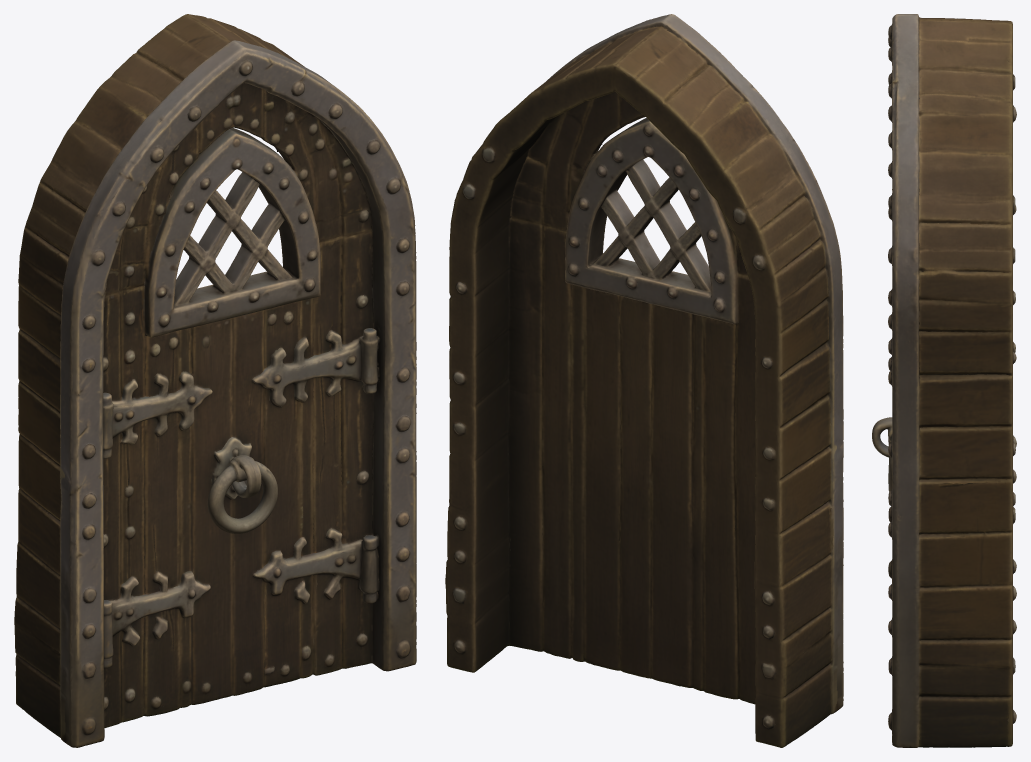
Rendered from crypt_door.glb.
3 views of the same model, side by side, from view 1: azimuth 30°, elevation 25°; view 2: azimuth 150°, elevation 25°; view 3: azimuth 270°, elevation 25° (orthographic).
Bounding box in the file's own units: 0.551 × 1 × 0.2019.
Materials: 1 (1 with a texture image).
